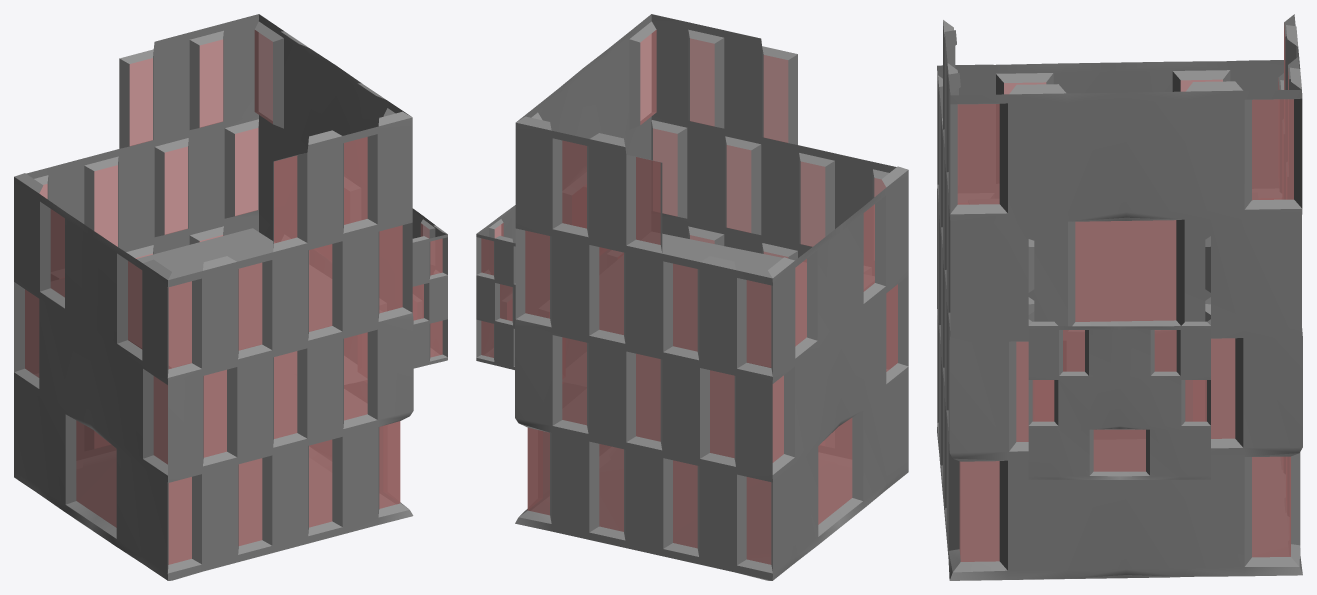
The model's file is Building2.fbx.
3 views of the same model, side by side, from view 1: azimuth 30°, elevation 25°; view 2: azimuth 150°, elevation 25°; view 3: azimuth 270°, elevation 25° (orthographic). The views are drawn at different scales.
Parts seen in each view (by area): view 1: pCube2, pCube3, pCube1, pCube4; view 2: pCube2, pCube3, pCube1, pCube4; view 3: pCube2, pCube1, pCube3, pCube4.
Part boxes in pixels (x1,y1,x2,y2): pCube2: (14,14,413,580); pCube3: (51,228,381,368); pCube1: (274,208,447,384); pCube4: (154,358,366,463); pCube2: (515,14,908,580); pCube3: (600,232,874,367); pCube1: (476,205,650,386); pCube4: (563,358,783,461); pCube2: (937,14,1302,580); pCube1: (1028,236,1210,479); pCube3: (969,193,1257,321); pCube4: (1017,339,1234,441).
Bounding box in the file's own units: 138 × 164 × 110.
